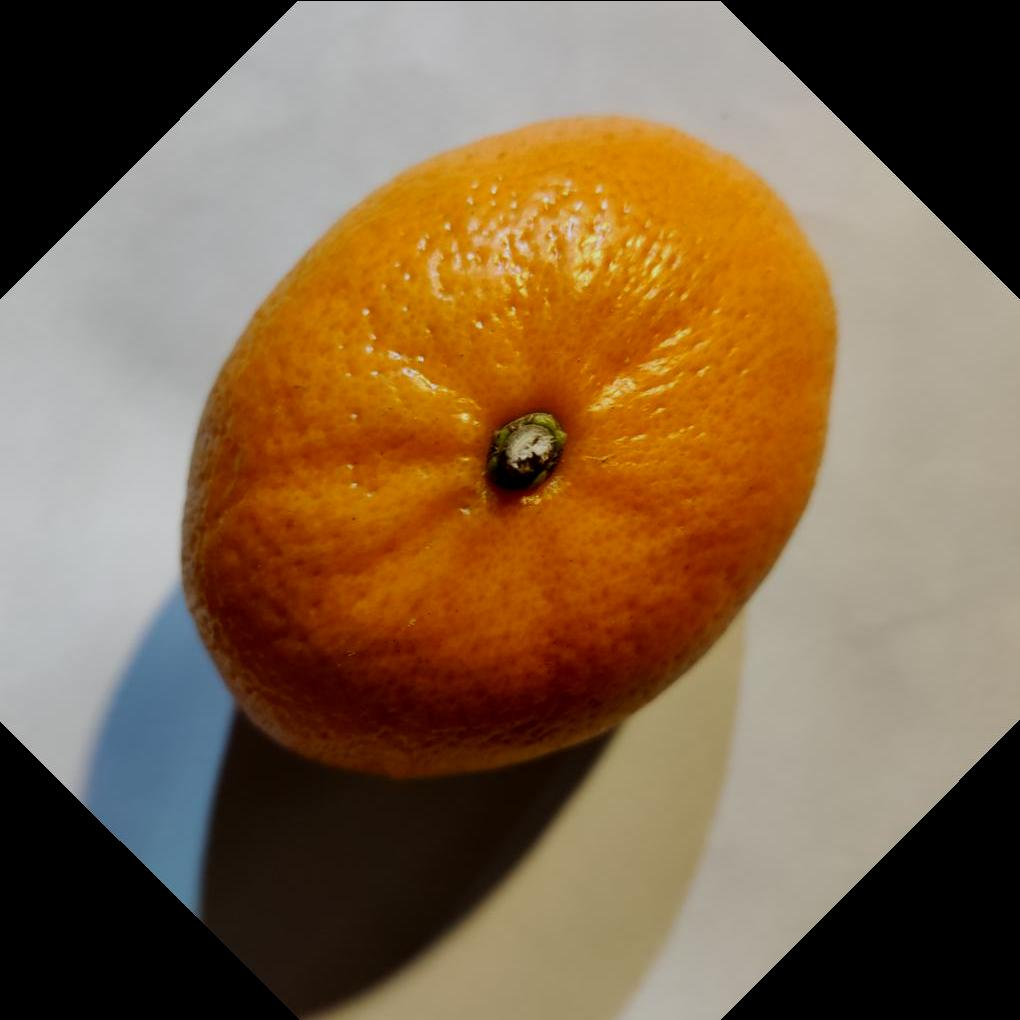FreshGuava: (181, 112, 842, 783)
